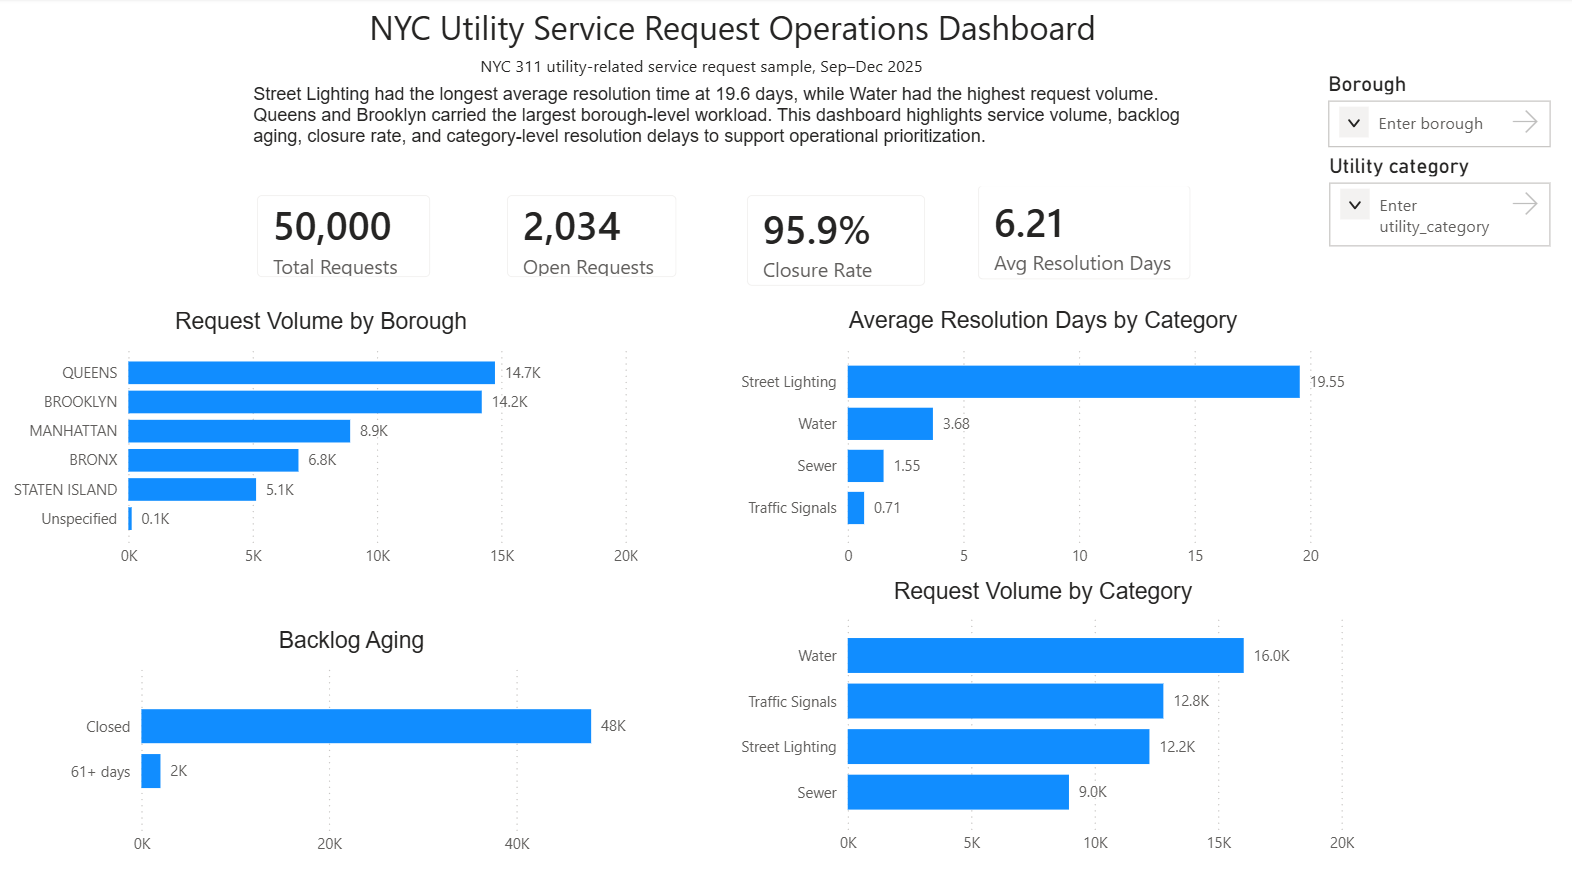

Layout of this report page (visuals, bound fields, positions):
{"tool":"powerbi","page":{"name":"Page 1","canvas":[1280,720],"ordinal":0},"visuals":[{"type":"textbox","box":[296.4,0,661.8,81.6],"z":0},{"type":"textbox","box":[387.2,41.4,425.1,46],"z":1000},{"type":"cardVisual","fields":{"Data":["nyc_311_utility_requests_2025_r.Total Requests Display"]},"box":[193.2,143.5,175.1,101.7],"z":2000},{"type":"cardVisual","fields":{"Data":["nyc_311_utility_requests_2025_r.Open Requests Display"]},"box":[396.5,143.5,172.9,101.7],"z":3000},{"type":"cardVisual","fields":{"Data":["nyc_311_utility_requests_2025_r.Closure Rate"]},"box":[592,143.5,179.6,108.5],"z":4000},{"type":"cardVisual","fields":{"Data":["Avg(nyc_311_utility_requests_2025_r.Resolution Days)"]},"box":[779.9,135,207.4,111.4],"z":5000},{"type":"clusteredBarChart","title":"Request Volume by Category","fields":{"Category":["nyc_311_utility_requests_2025_r.utility_category"],"Y":["CountNonNull(nyc_311_utility_requests_2025_r.unique_key)"]},"box":[592,471.7,515.6,233.4],"z":6000},{"type":"clusteredBarChart","title":"Request Volume by Borough","fields":{"Y":["CountNonNull(nyc_311_utility_requests_2025_r.unique_key)"],"Category":["nyc_311_utility_requests_2025_r.borough"]},"box":[0,252.1,525.3,219.6],"z":7000},{"type":"clusteredBarChart","title":"Average Resolution Days by Category","fields":{"Y":["Avg(nyc_311_utility_requests_2025_r.Resolution Days)"],"Category":["nyc_311_utility_requests_2025_r.utility_category"]},"box":[592,251.3,515.6,220.4],"z":8000},{"type":"clusteredBarChart","title":"Backlog Aging","fields":{"Category":["nyc_311_utility_requests_2025_r.backlog_bucket"],"Y":["CountNonNull(nyc_311_utility_requests_2025_r.unique_key)"]},"box":[49.6,511.5,475.7,194.4],"z":9000},{"type":"textSlicer","title":"Utility category","fields":{"Values":["nyc_311_utility_requests_2025_r.utility_category"]},"box":[1077.5,126,190.3,80.5],"z":10000},{"type":"textSlicer","title":"Borough","fields":{"Values":["nyc_311_utility_requests_2025_r.borough"]},"box":[1076.7,59.4,191.1,66.7],"z":11000},{"type":"textbox","box":[202.5,64.2,778.2,89.5],"z":12000}]}

Visuals, with their boxes in screenshot pixels (x1, y1, x2, y2), scaled from the page's 1280x720 canvas onto the 1572x883 screenshot:
textbox: rect(364, 0, 1177, 100)
textbox: rect(476, 51, 998, 107)
cardVisual - nyc_311_utility_requests_2025_r.Total Requests Display: rect(237, 176, 452, 301)
cardVisual - nyc_311_utility_requests_2025_r.Open Requests Display: rect(487, 176, 699, 301)
cardVisual - nyc_311_utility_requests_2025_r.Closure Rate: rect(727, 176, 948, 309)
cardVisual - Avg(nyc_311_utility_requests_2025_r.Resolution Days): rect(958, 166, 1213, 302)
"Request Volume by Category" clusteredBarChart: rect(727, 578, 1360, 865)
"Request Volume by Borough" clusteredBarChart: rect(0, 309, 645, 578)
"Average Resolution Days by Category" clusteredBarChart: rect(727, 308, 1360, 578)
"Backlog Aging" clusteredBarChart: rect(61, 627, 645, 866)
"Utility category" textSlicer: rect(1323, 155, 1557, 253)
"Borough" textSlicer: rect(1322, 73, 1557, 155)
textbox: rect(249, 79, 1204, 188)
